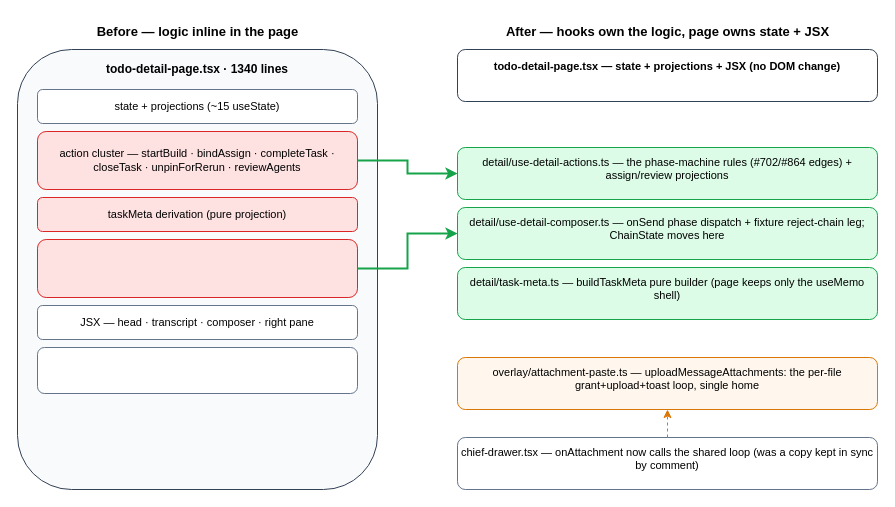
Image size: 895x507. Some labels were removed from this diagram. Each missing label, with the centre of its shape:
"composer wiring — onSend four-way phase dispatch + onAttachment loop" belongs at (x=197, y=268).
"ten dialogs (stay — wrapping them would grow the interface)" belongs at (x=197, y=370).
